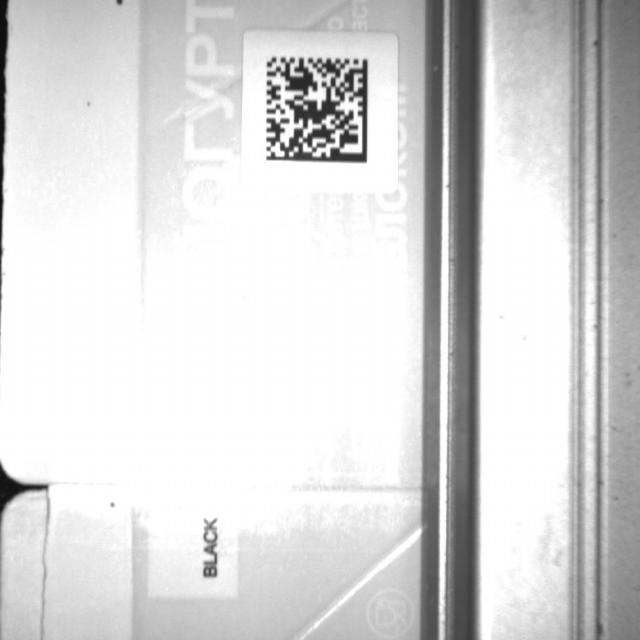datamatrix: (266, 57, 368, 165)
